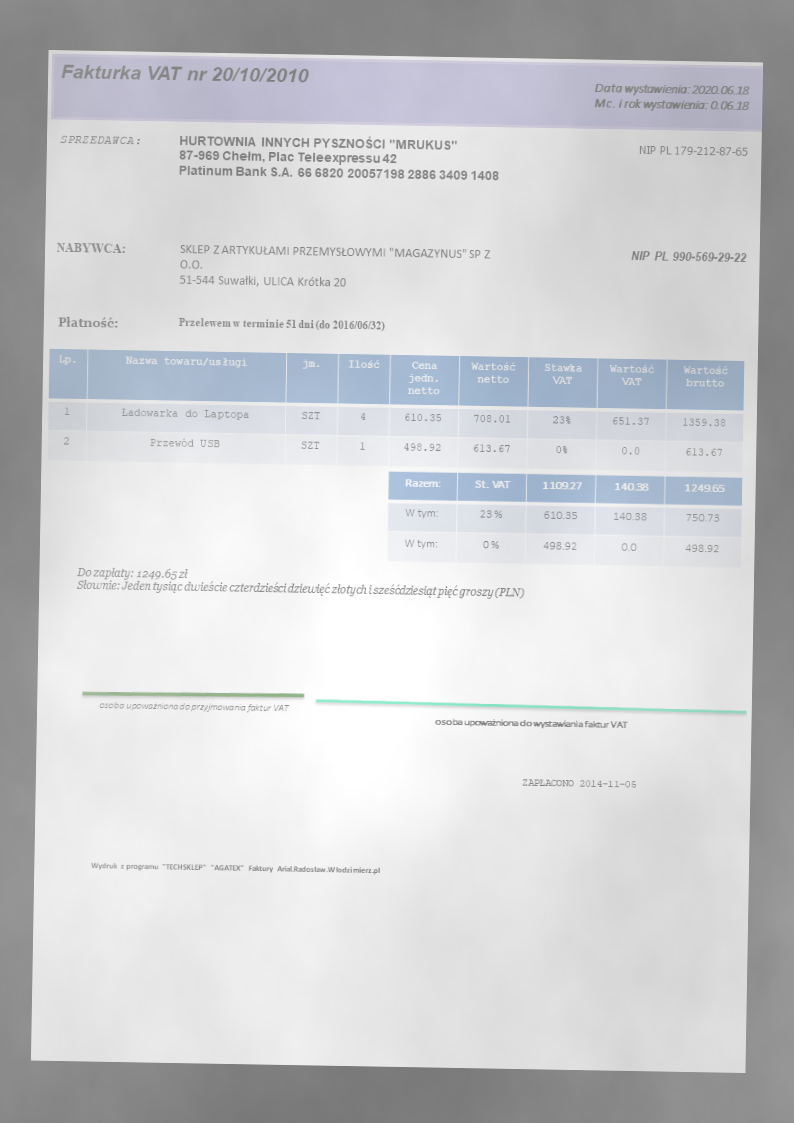Table: (45, 346, 745, 474), (385, 469, 743, 569)
TextBox: (176, 131, 503, 186), (73, 564, 527, 602), (179, 241, 491, 293), (58, 61, 311, 87), (590, 79, 756, 113), (88, 858, 385, 877), (176, 314, 386, 333), (96, 698, 291, 716), (431, 715, 629, 732), (629, 246, 747, 266), (634, 140, 748, 159), (520, 776, 638, 790), (56, 131, 143, 147), (54, 239, 127, 256), (57, 313, 120, 330)
